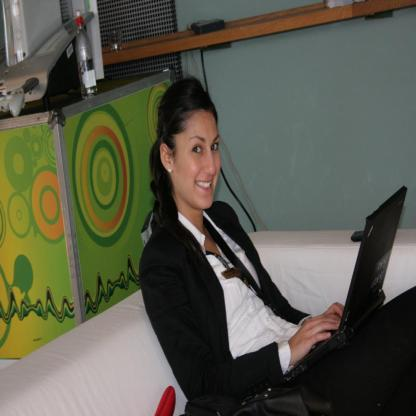board: (270, 181, 406, 398), (73, 9, 98, 98)
